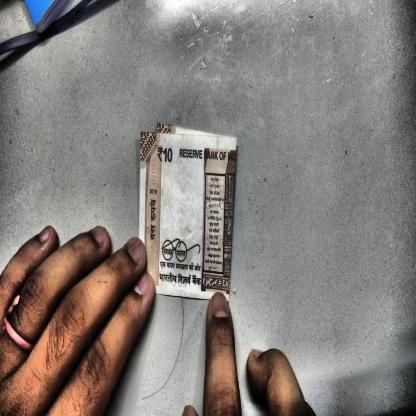Rs10: (156, 145, 173, 164)
